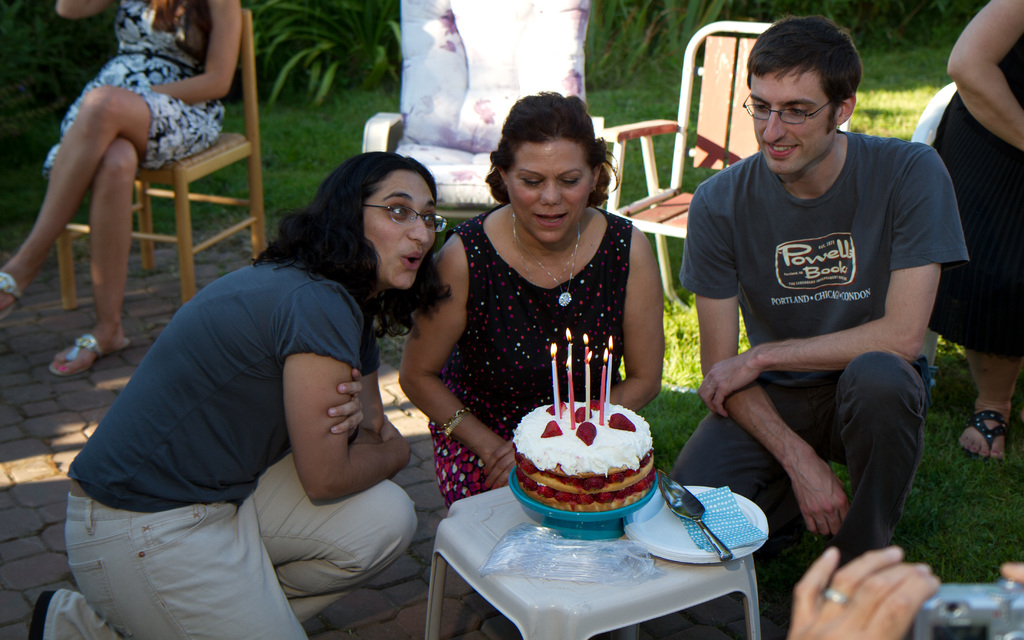cake: (509, 399, 655, 514)
